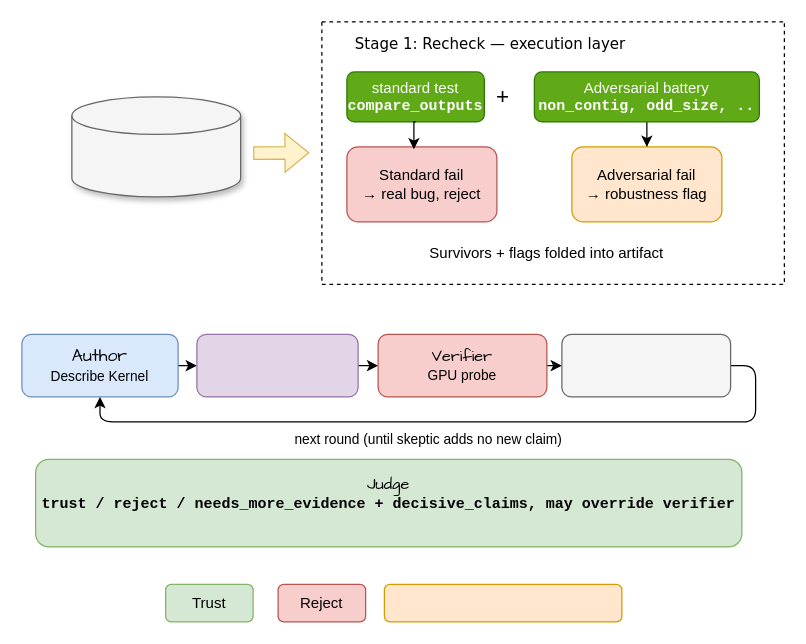
Image size: 806x644. Some labels were removed from this diagram. Here are the shapes that lost their labels. From the top down, the centre of each, then its label:
At [157,148]: "Dataset Kernel + test + meta".
At [277,365]: "Skeptic Files claims".
At [646,365]: "Claims Leger per-round state".
At [502,602]: "needs_more_evidence".
